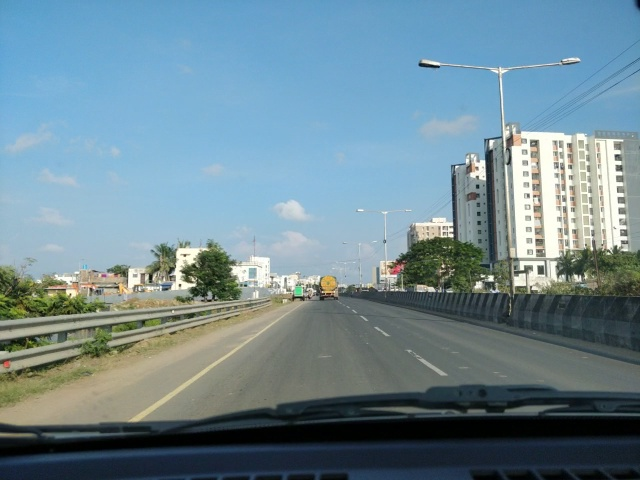truck: (314, 274, 342, 301), (291, 286, 308, 304)
